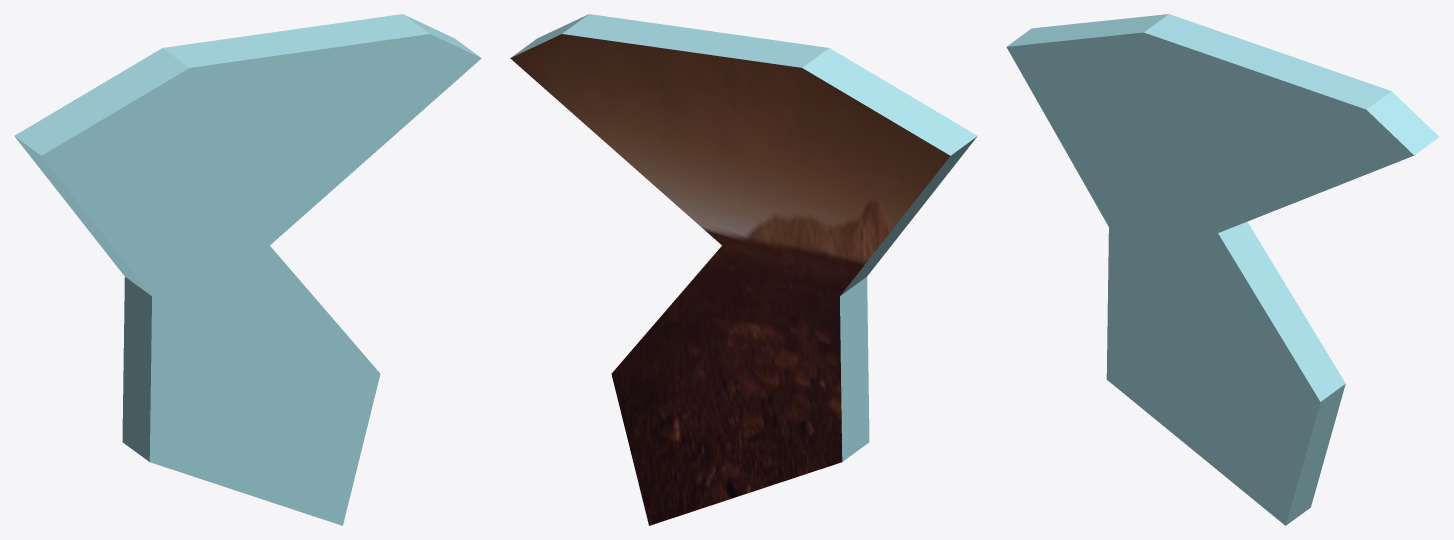
The model's file is monde5.glb.
The picture shows the model from 3 angles, left to right: view 1: azimuth 30°, elevation 25°; view 2: azimuth 150°, elevation 25°; view 3: azimuth 330°, elevation 25°; orthographic projection. The views are drawn at different scales.
Parts seen in each view (by area): view 1: Plane.006; view 2: Plane.006; view 3: Plane.006.
Boxes of the visible parts, left/top/right/bottom form: Plane.006: left=14, top=14, right=481, bottom=525; Plane.006: left=510, top=14, right=977, bottom=525; Plane.006: left=1006, top=14, right=1439, bottom=525.
Bounding box in the file's own units: 46.6 × 50.09 × 5.
2 materials, 1 textured.
